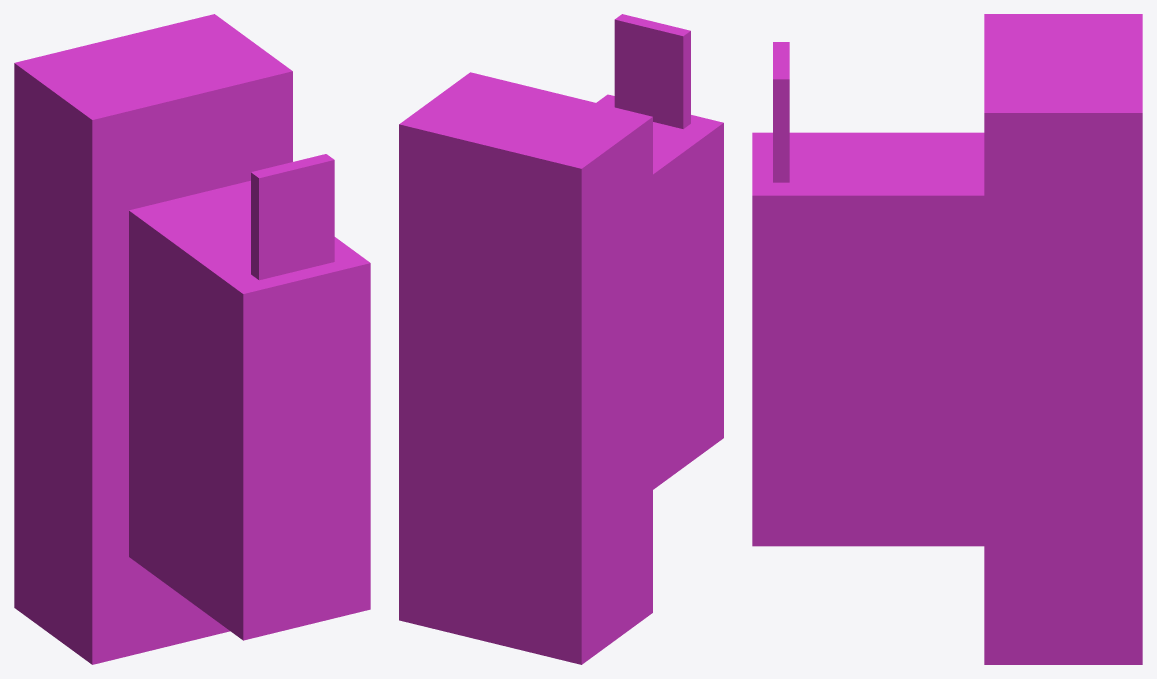
Rendered from lasgun3.gltf.
3 views of the same model, side by side, from view 1: azimuth 30°, elevation 25°; view 2: azimuth 150°, elevation 25°; view 3: azimuth 270°, elevation 25° (orthographic). The views are drawn at different scales.
Visible parts, largest first — view 1: Cube; view 2: Cube; view 3: Cube.
Part boxes in pixels (<box>): Cube: <box>14,14,370,664</box>; Cube: <box>399,14,723,664</box>; Cube: <box>752,14,1142,664</box>.
Bounding box in the file's own units: 0.02 × 0.0522 × 0.0333.
